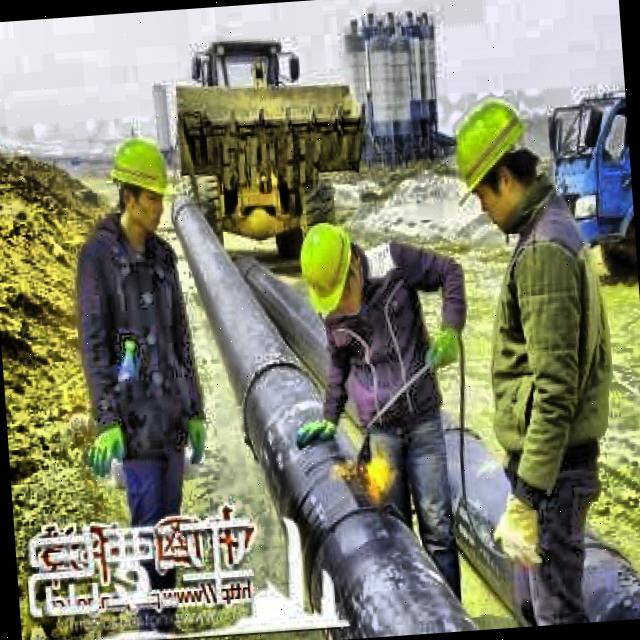helmet: (439, 87, 545, 240), (102, 124, 176, 242), (291, 212, 365, 312)
